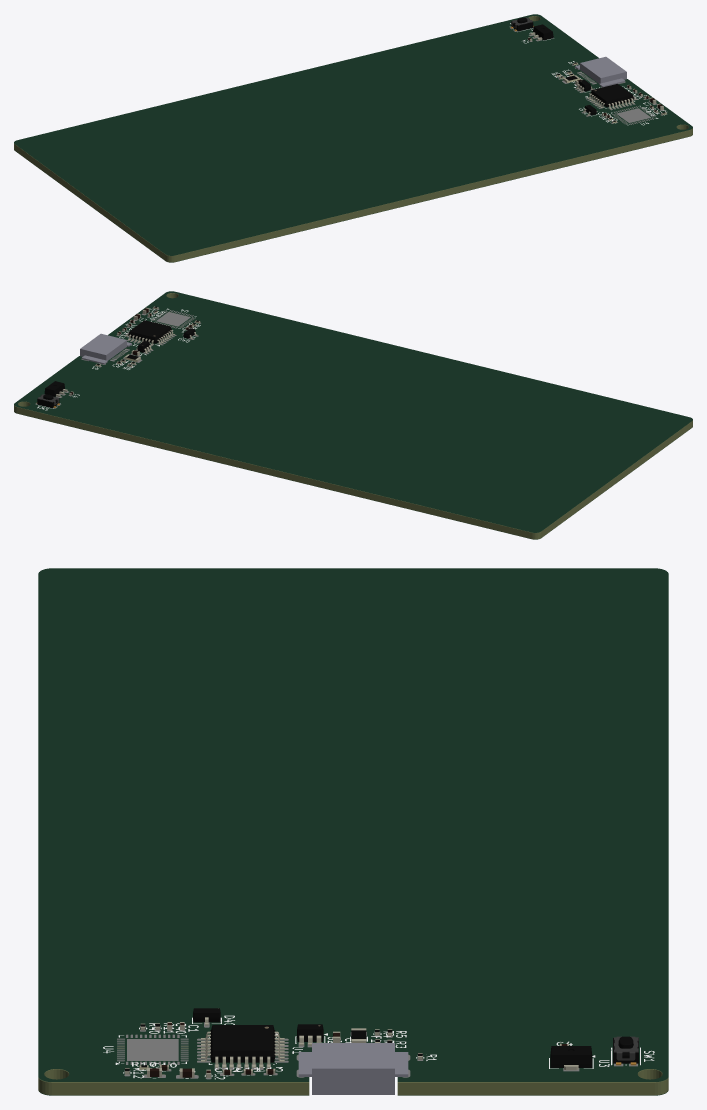
The model's file is commander_touchpad.dae.
The picture shows the model from 3 angles, top to bottom: view 1: azimuth 30°, elevation 25°; view 2: azimuth 150°, elevation 25°; view 3: azimuth 270°, elevation 25°; orthographic projection. The views are drawn at different scales.
Parts seen in each view (by area): view 1: part_02, part_05, part_01, part_08, part_07, part_09, part_12; view 2: part_02, part_05, part_01, part_08, part_07, part_09, part_12; view 3: part_02, part_05, part_08, part_01, part_07, part_09, part_12.
Part boxes in pixels (box(x1,y1,x2,y2)): part_02: box(14, 14, 692, 262); part_05: box(14, 16, 692, 262); part_01: box(511, 17, 633, 115); part_08: box(575, 56, 626, 87); part_07: box(510, 27, 667, 124); part_09: box(528, 32, 666, 122); part_12: box(510, 23, 666, 125); part_02: box(14, 291, 692, 539); part_05: box(14, 293, 692, 539); part_01: box(37, 320, 195, 408); part_08: box(80, 333, 131, 364); part_07: box(35, 308, 200, 408); part_09: box(56, 306, 200, 397); part_12: box(36, 308, 200, 410); part_02: box(38, 568, 668, 1095); part_05: box(38, 1046, 668, 1095); part_08: box(298, 1043, 408, 1094); part_01: box(193, 1008, 638, 1067); part_07: box(117, 1022, 637, 1079); part_09: box(125, 1017, 578, 1077); part_12: box(103, 1015, 654, 1079).
Size of the model in its own units: 131 by 67.95 by 3.57.
